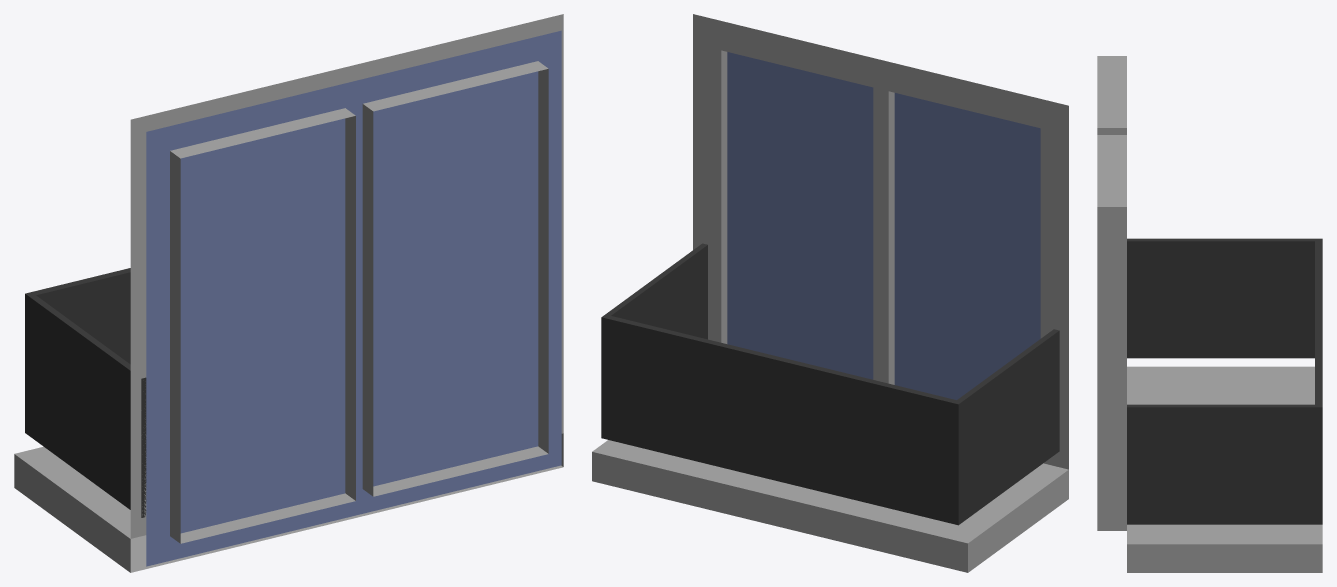
Rendered from Balcony.fbx.
3 views of the same model, side by side, from view 1: azimuth 30°, elevation 25°; view 2: azimuth 150°, elevation 25°; view 3: azimuth 270°, elevation 25° (orthographic). The views are drawn at different scales.
Visible parts, largest first — view 1: Balcony; view 2: Balcony; view 3: Balcony.
Boxes of the visible parts, left/top/right/bottom form: Balcony: left=14, top=14, right=563, bottom=572; Balcony: left=592, top=14, right=1068, bottom=572; Balcony: left=1097, top=56, right=1322, bottom=572.
Size of the model in its own units: 1 by 1 by 0.535.
